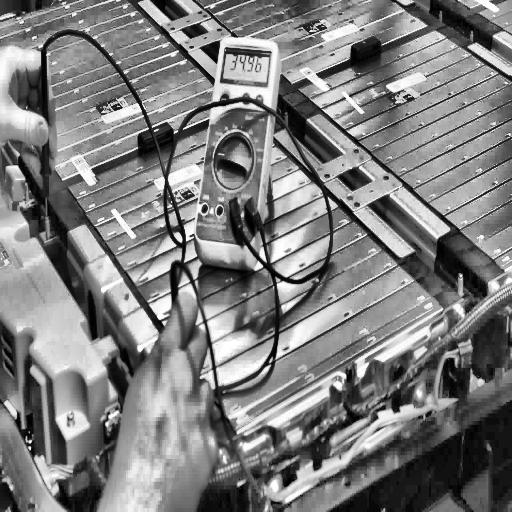battery_module: (69, 109, 442, 433)
